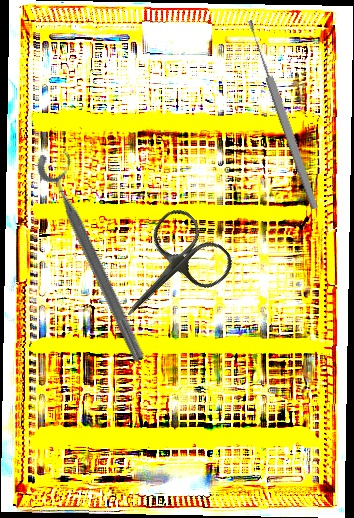Fixation Ring: (32, 143, 162, 366)
Iris Scissors: (96, 201, 240, 346)
Surgical Spoon: (244, 18, 321, 211)
